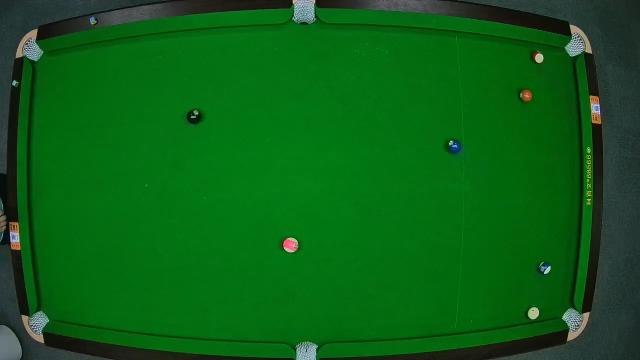bag1: (19, 38, 45, 62)
bag2: (291, 0, 317, 26)
bag3: (566, 29, 588, 57)
bag4: (29, 310, 49, 334)
bag5: (294, 340, 320, 360)
bag6: (563, 308, 585, 332)
ball0: (526, 304, 540, 320)
ball10: (537, 260, 553, 276)
ball11: (532, 48, 544, 64)
ball12: (282, 236, 298, 252)
ball2: (446, 138, 462, 154)
ball7: (520, 87, 532, 103)
ball8: (186, 109, 200, 124)
